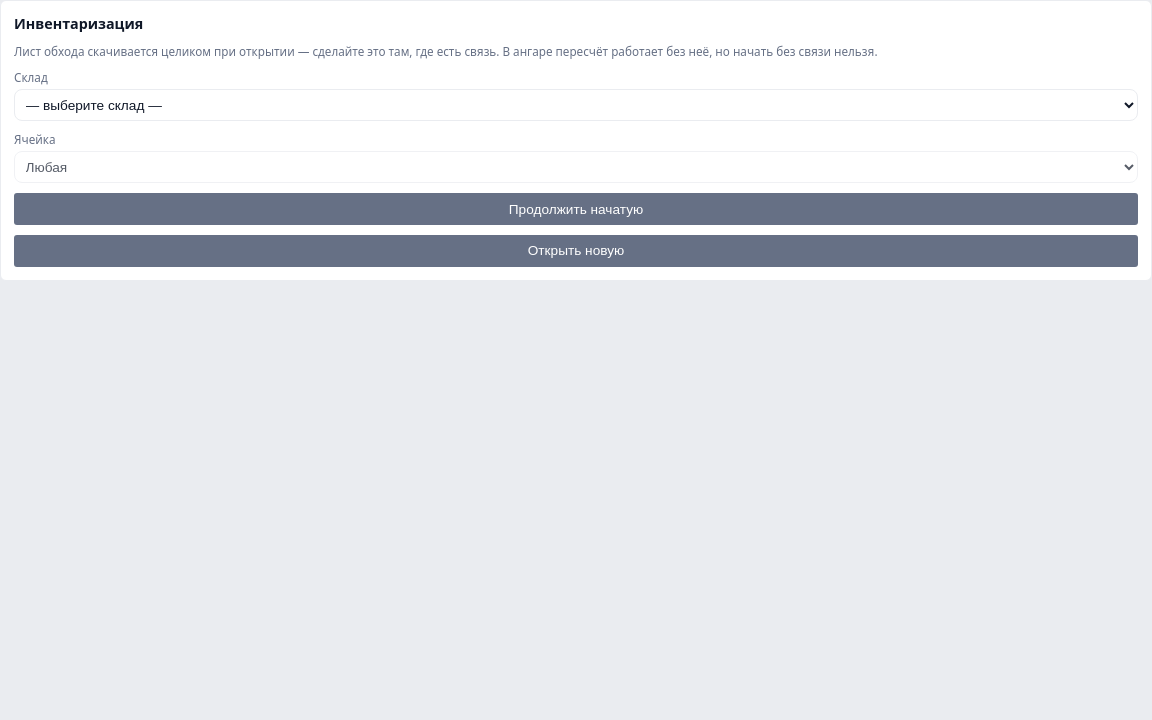
Test case: комментарий ходившего на экране обхода › роль, которой писать нельзя, поля не видит
This screenshot has width=1152, height=720.
Select "Ткацкая" in the dropdown labelled "Склад": (576, 105) left=14, top=89, right=1138, bottom=121
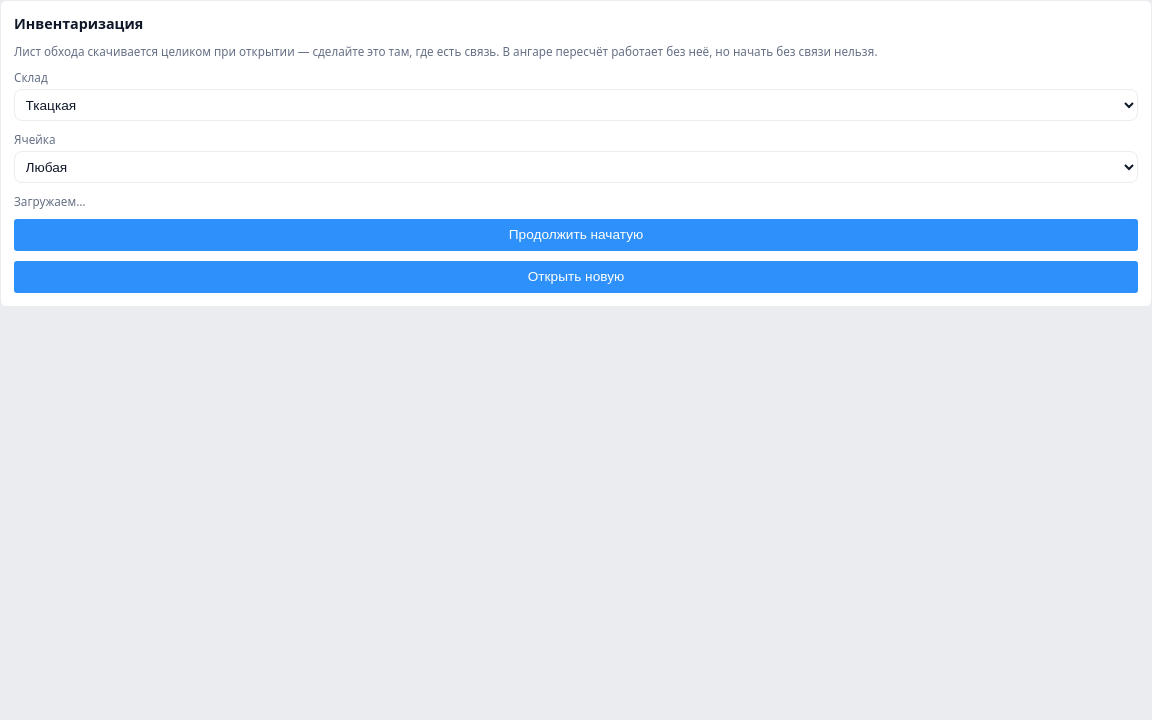
Click the button "Открыть новую": (576, 277) left=14, top=261, right=1138, bottom=293
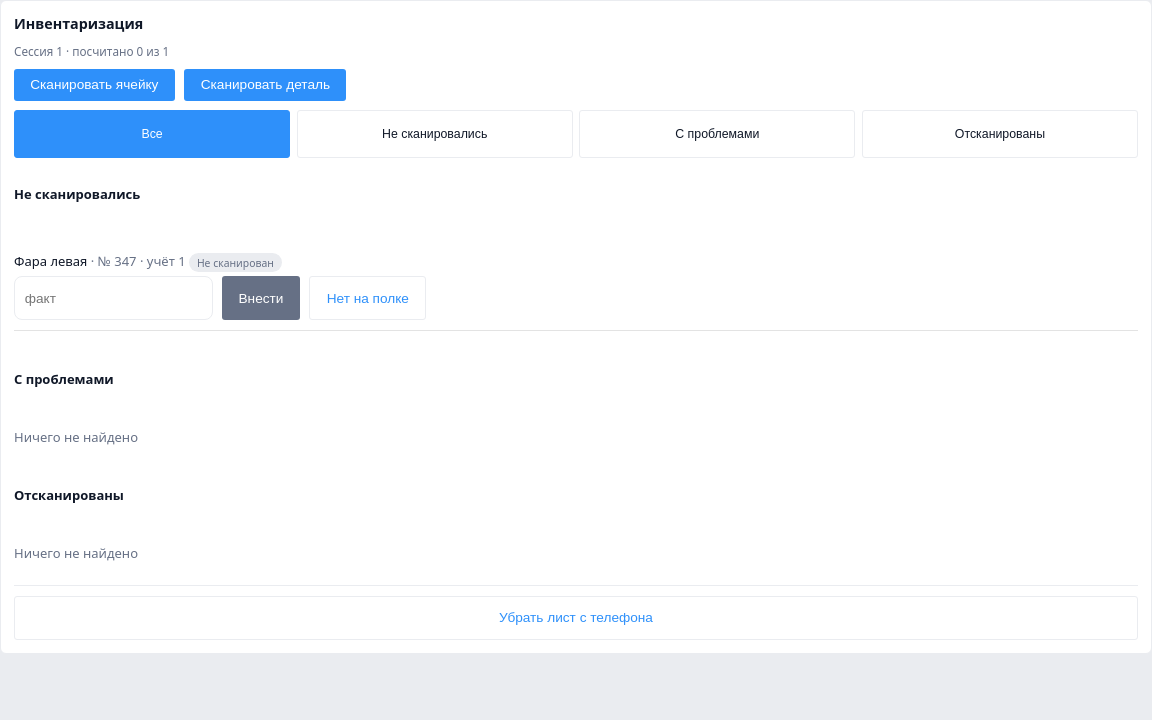
Expected: the text "Фара левая" is shown, left=14, top=252, right=87, bottom=270
